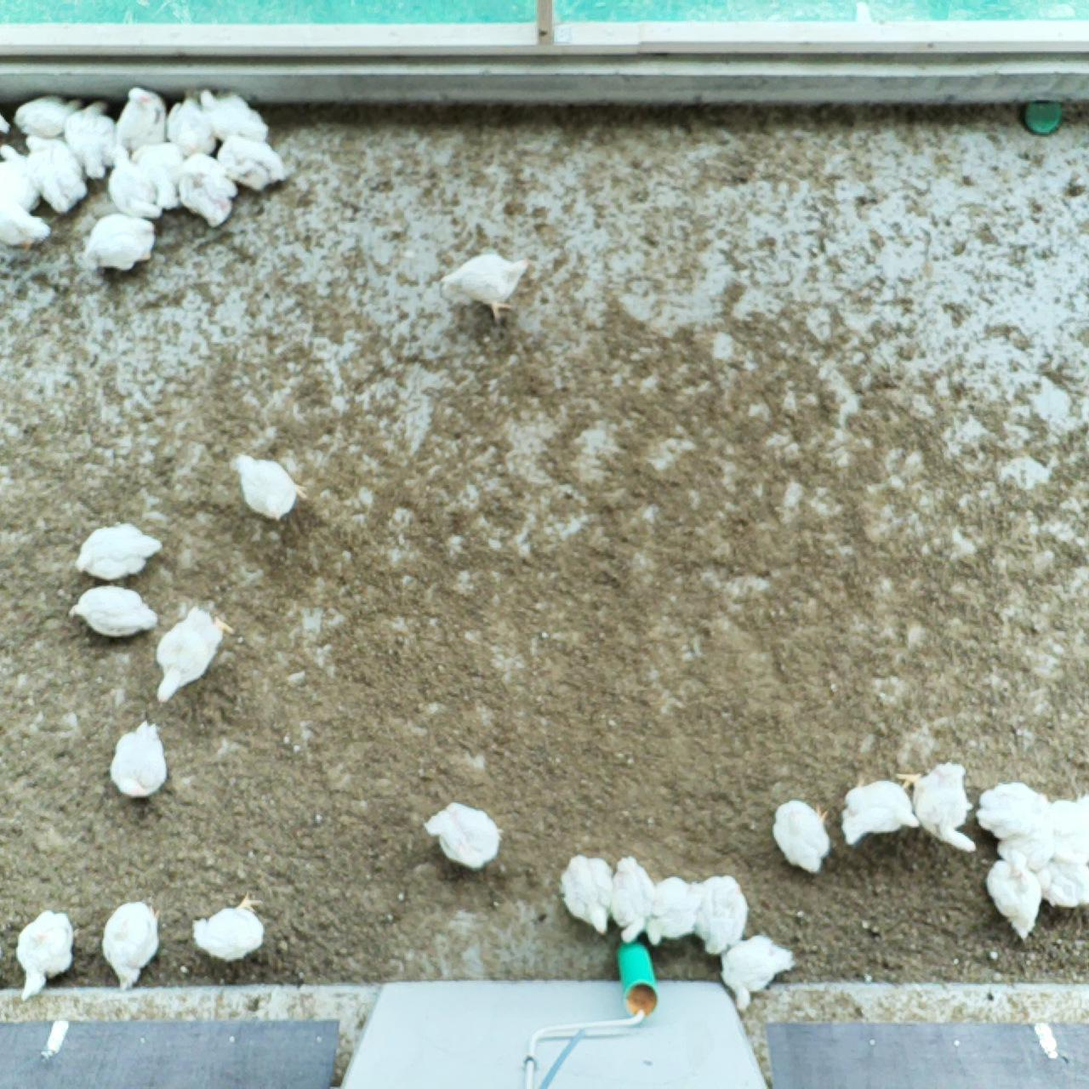chicken: (151, 602, 237, 713), (898, 758, 977, 857), (434, 249, 532, 324), (228, 449, 309, 526), (14, 906, 77, 1000), (101, 898, 164, 992), (426, 797, 507, 870), (721, 934, 795, 1013), (191, 889, 267, 964), (173, 148, 241, 230), (74, 522, 164, 582), (841, 774, 917, 845), (21, 134, 87, 214), (984, 850, 1039, 944), (83, 209, 156, 277), (210, 136, 290, 197), (605, 853, 656, 948), (555, 852, 614, 934), (105, 148, 169, 223), (993, 808, 1062, 877), (68, 585, 156, 639), (65, 96, 121, 180), (107, 720, 166, 799), (773, 795, 831, 874), (978, 783, 1055, 840), (695, 875, 748, 956), (111, 84, 167, 160), (649, 873, 708, 945), (131, 143, 190, 213), (197, 85, 268, 142), (162, 90, 220, 159), (11, 92, 84, 146), (0, 180, 51, 254), (1029, 854, 1089, 909), (0, 142, 42, 215), (1049, 795, 1089, 869)
